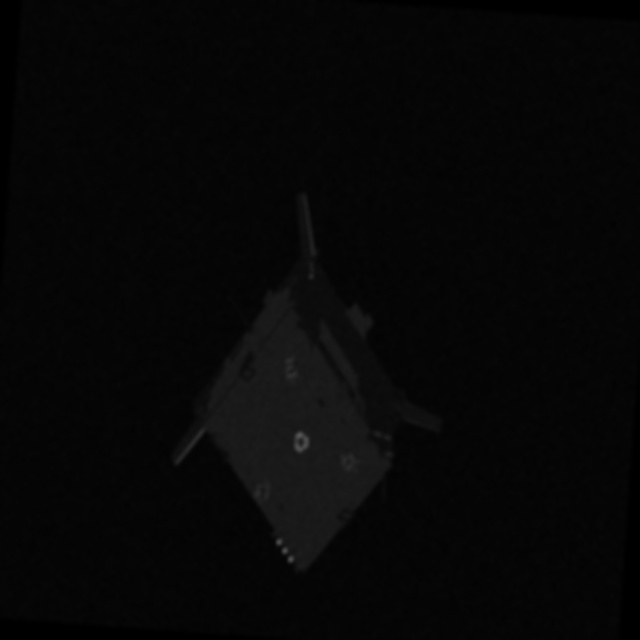satellite: (164, 187, 456, 586)
